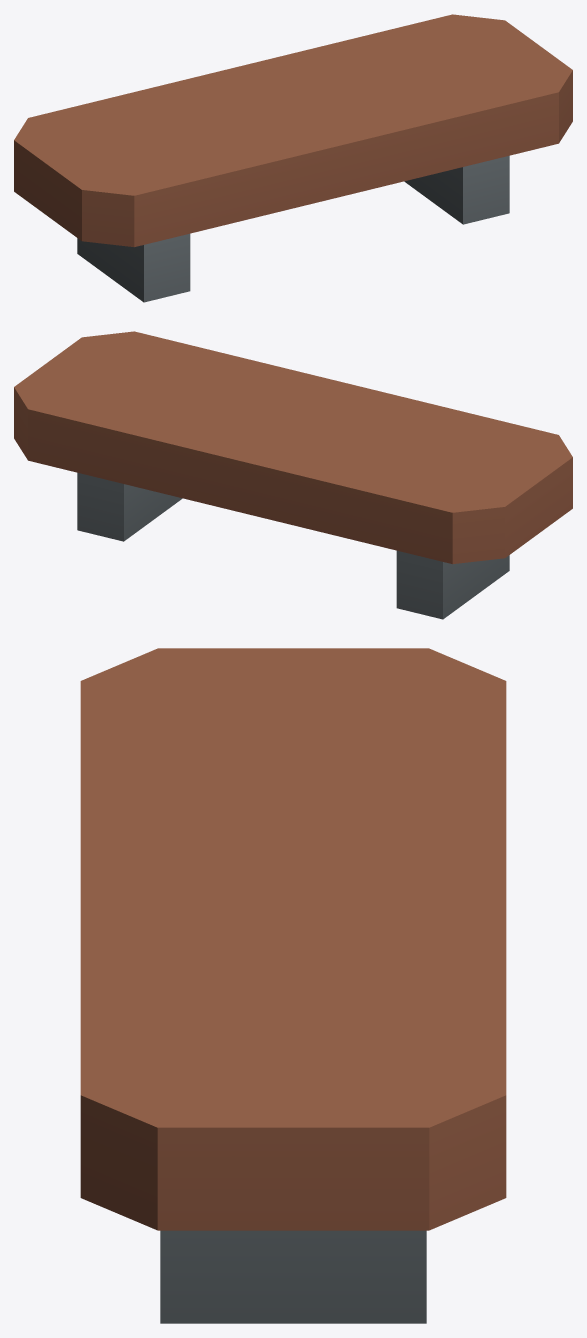
Rendered from city-bench.glb.
3 renders of one model, top to bottom at view 1: azimuth 30°, elevation 25°; view 2: azimuth 150°, elevation 25°; view 3: azimuth 270°, elevation 25°, orthographic. The views are drawn at different scales.
Visible parts, largest first — view 1: bench; view 2: bench; view 3: bench.
Part boxes in pixels (<box>): bench: <box>14,14,572,302</box>; bench: <box>14,331,572,619</box>; bench: <box>80,648,506,1323</box>.
Size of the model in its own units: 0.4 by 0.1 by 0.15.
